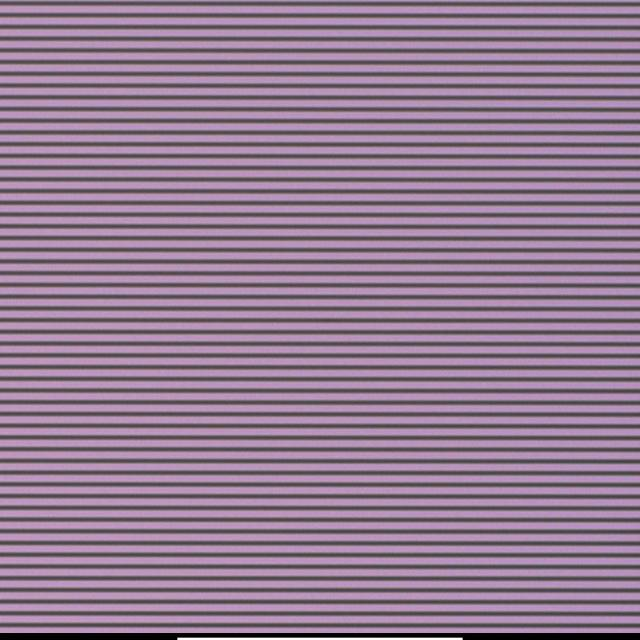03_intrusion: (311, 222, 317, 230)
